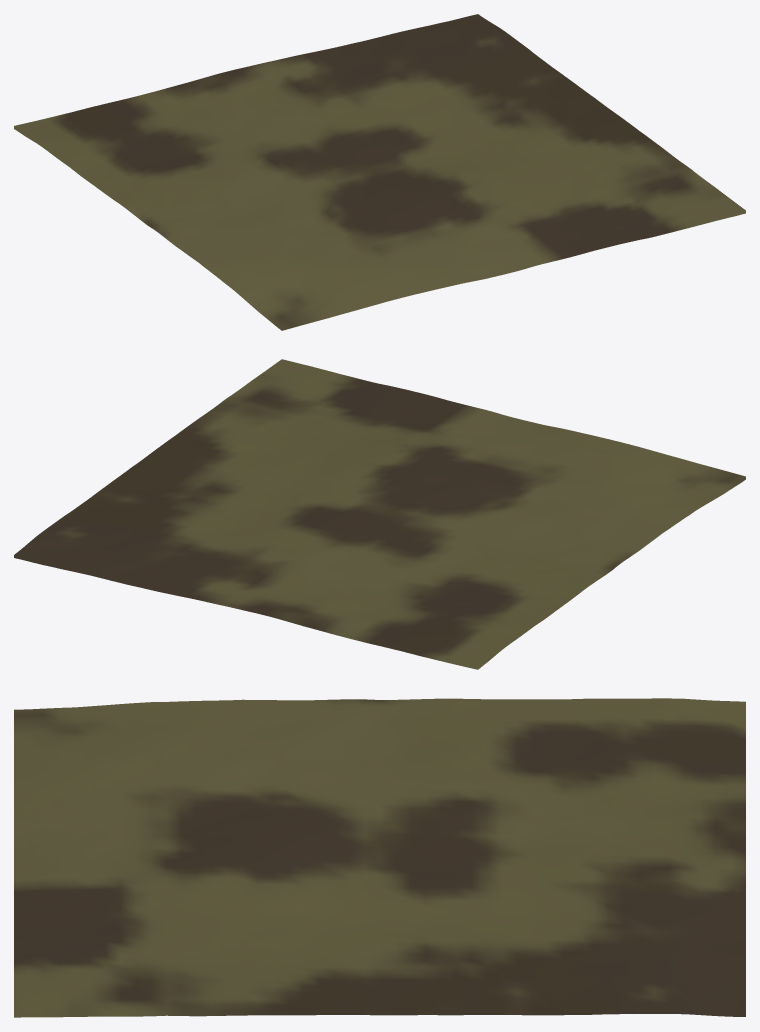
Rendered from land_m_13_06.glb.
3 views of the same model, one above another, from view 1: azimuth 30°, elevation 25°; view 2: azimuth 150°, elevation 25°; view 3: azimuth 270°, elevation 25° (orthographic). The views are drawn at different scales.
Parts seen in each view (by area): view 1: land_m_13_06; view 2: land_m_13_06; view 3: land_m_13_06.
Boxes of the visible parts, x1,y1,x2,y2 form: land_m_13_06: (14, 14, 745, 330); land_m_13_06: (14, 359, 745, 669); land_m_13_06: (14, 698, 745, 1017).
Size of the model in its own units: 960 by 24.53 by 960.
